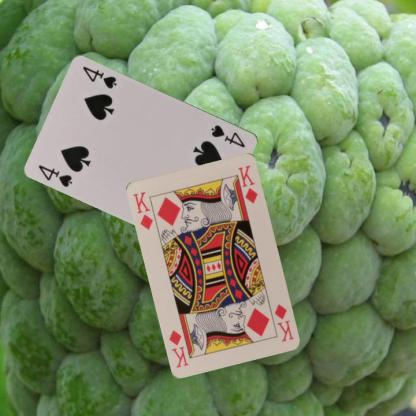4s: (209, 122, 246, 149), (36, 162, 74, 188)
Kd: (130, 189, 155, 232), (272, 302, 295, 343)
